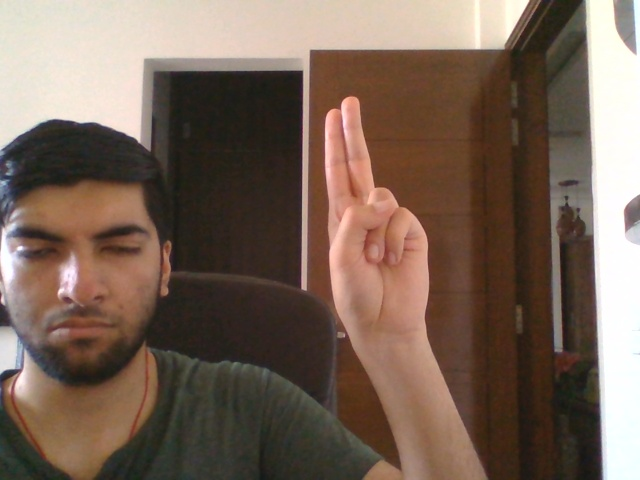LetterU: (320, 93, 434, 339)
